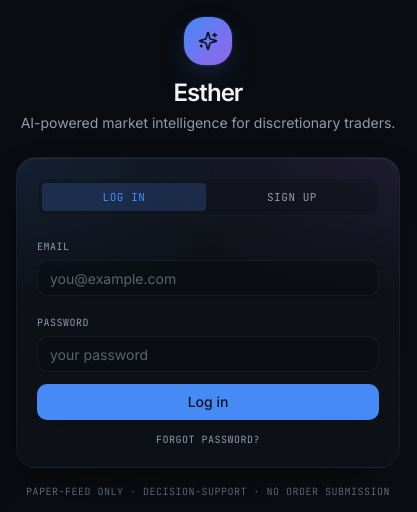
Test: LoginPage › switches to forgot mode and hides the password field
Click the button with test id "forgot-link" at (208,440), box 37,432 -> 379,447
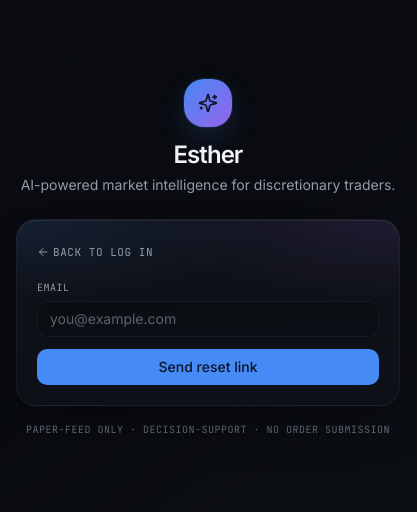
Result: the password field with test id "password-input" is gone
Result: the button with test id "back-to-login" is shown at 37,244 -> 153,261
Result: the button with test id "submit-button" reads "Send reset link" at 37,349 -> 379,385
